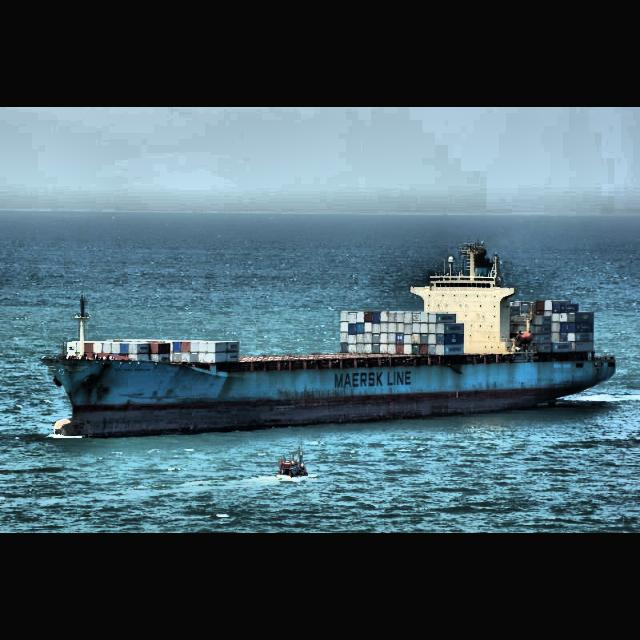container: (40, 239, 618, 441)
